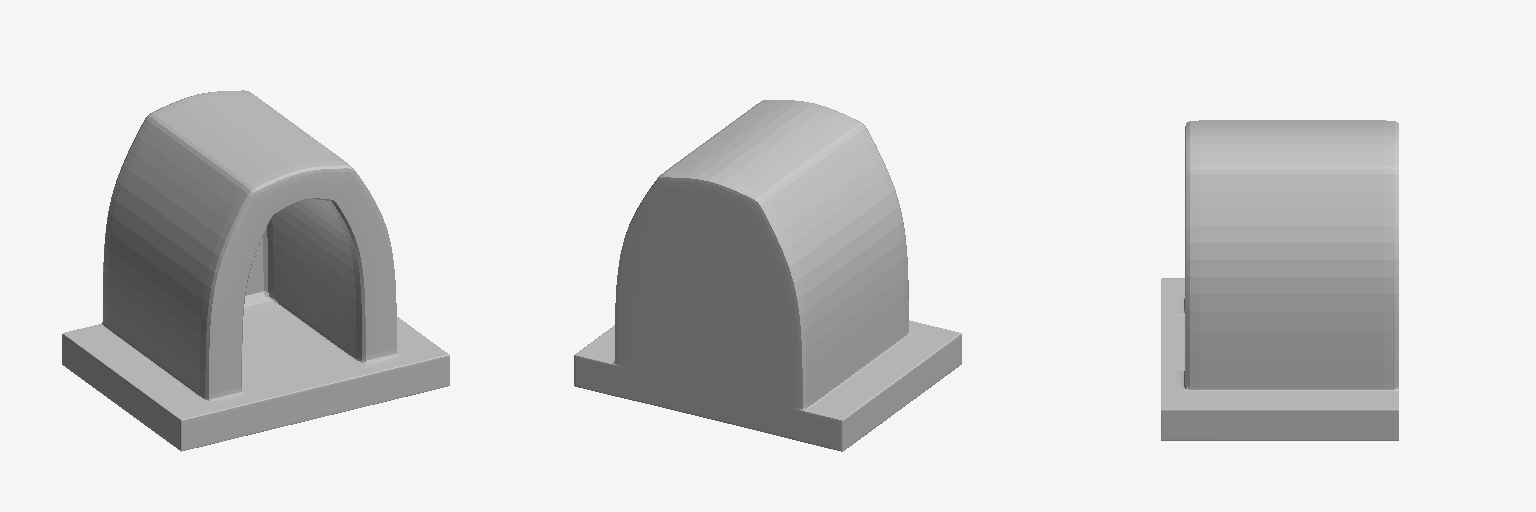
The model's file is Oven.obj.
3 views of the same model, side by side, from view 1: azimuth 30°, elevation 25°; view 2: azimuth 150°, elevation 25°; view 3: azimuth 270°, elevation 25° (orthographic).
Parts seen in each view (by area): view 1: pCube1; view 2: pCube1; view 3: pCube1.
Boxes of the visible parts, x1,y1,x2,y2 form: pCube1: [62, 90, 449, 451]; pCube1: [574, 100, 961, 451]; pCube1: [1161, 120, 1398, 440].
Bounding box in the file's own units: 45.86 × 39.05 × 35.24.